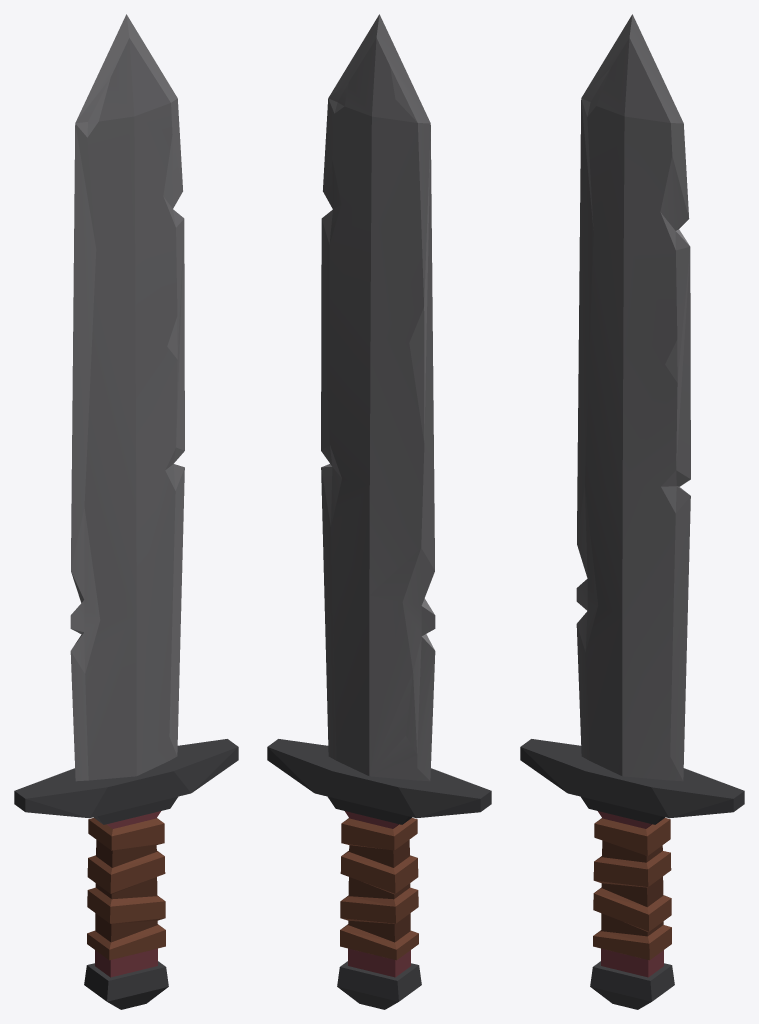
File: Espada.glb
The picture shows the model from 3 angles, left to right: view 1: azimuth 30°, elevation 25°; view 2: azimuth 150°, elevation 25°; view 3: azimuth 330°, elevation 25°; orthographic projection.
Parts seen in each view (by area): view 1: SM_Wep_Sword_01; view 2: SM_Wep_Sword_01; view 3: SM_Wep_Sword_01.
Part boxes in pixels (<box>): SM_Wep_Sword_01: <box>14,14,238,1009</box>; SM_Wep_Sword_01: <box>267,14,491,1009</box>; SM_Wep_Sword_01: <box>520,14,744,1009</box>.
Bounding box in the file's own units: 0.2361 × 1.05 × 0.0544.
1 material, 1 textured.
